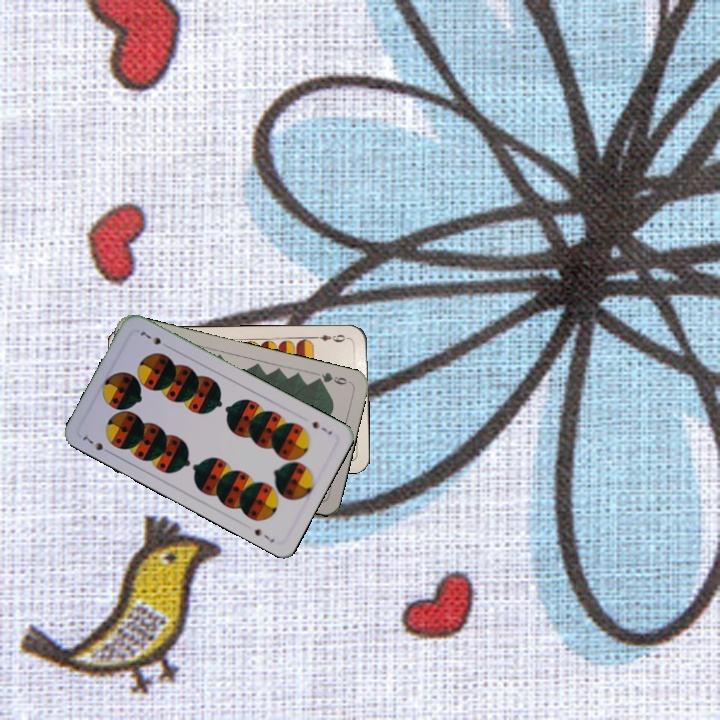E9: (311, 330, 352, 345)
G9: (312, 368, 353, 388)
S7: (78, 432, 114, 457), (308, 417, 335, 437)
